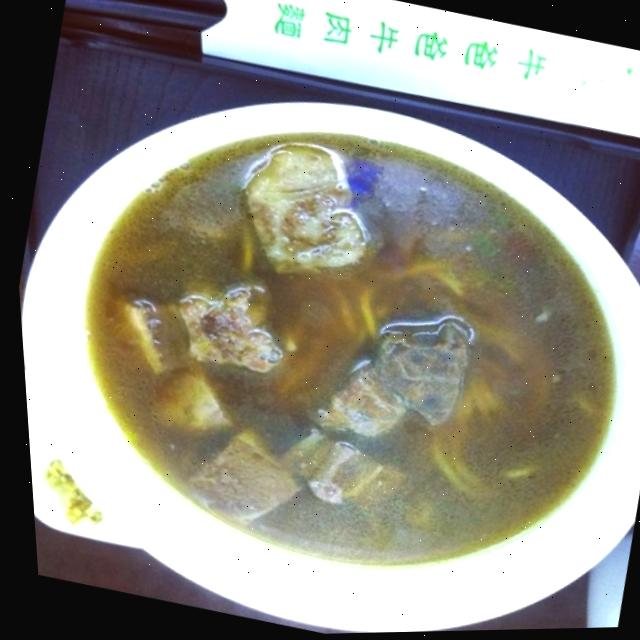面条主食: (12, 43, 640, 640)
